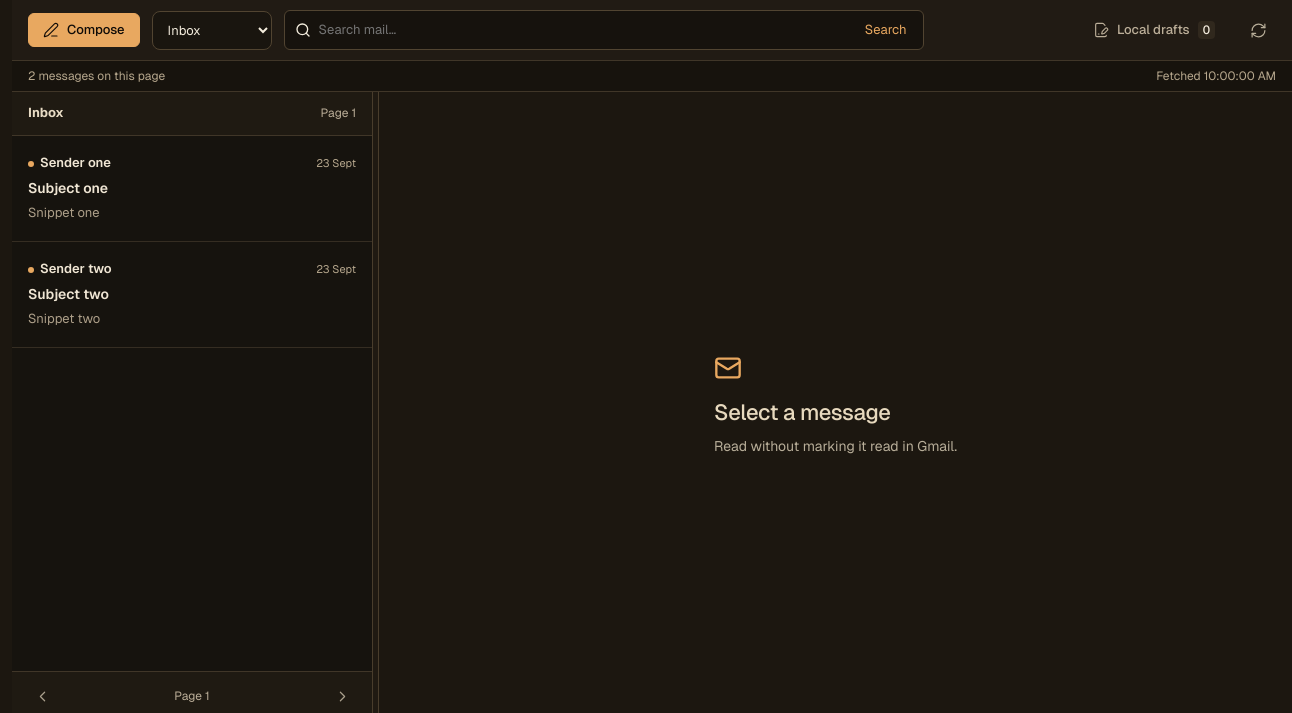
Test: reselecting the same loading message starts a fresh generation and resolves
Click the button "Sender one 23 Sept Subject one Snippet one" at (75, 163), box top-left (12, 136), bottom-right (372, 242)
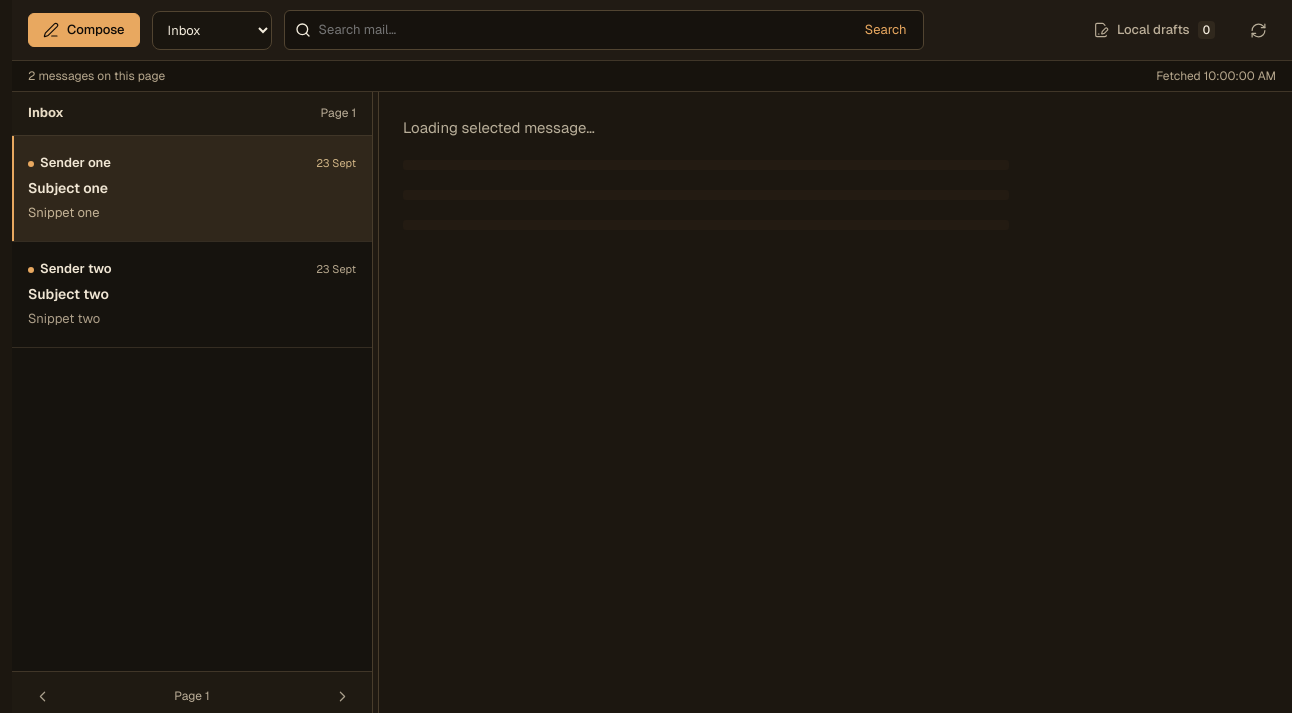
Press ArrowUp in the button "Sender one 23 Sept Subject one Snippet one", box top-left (12, 136), bottom-right (372, 242)
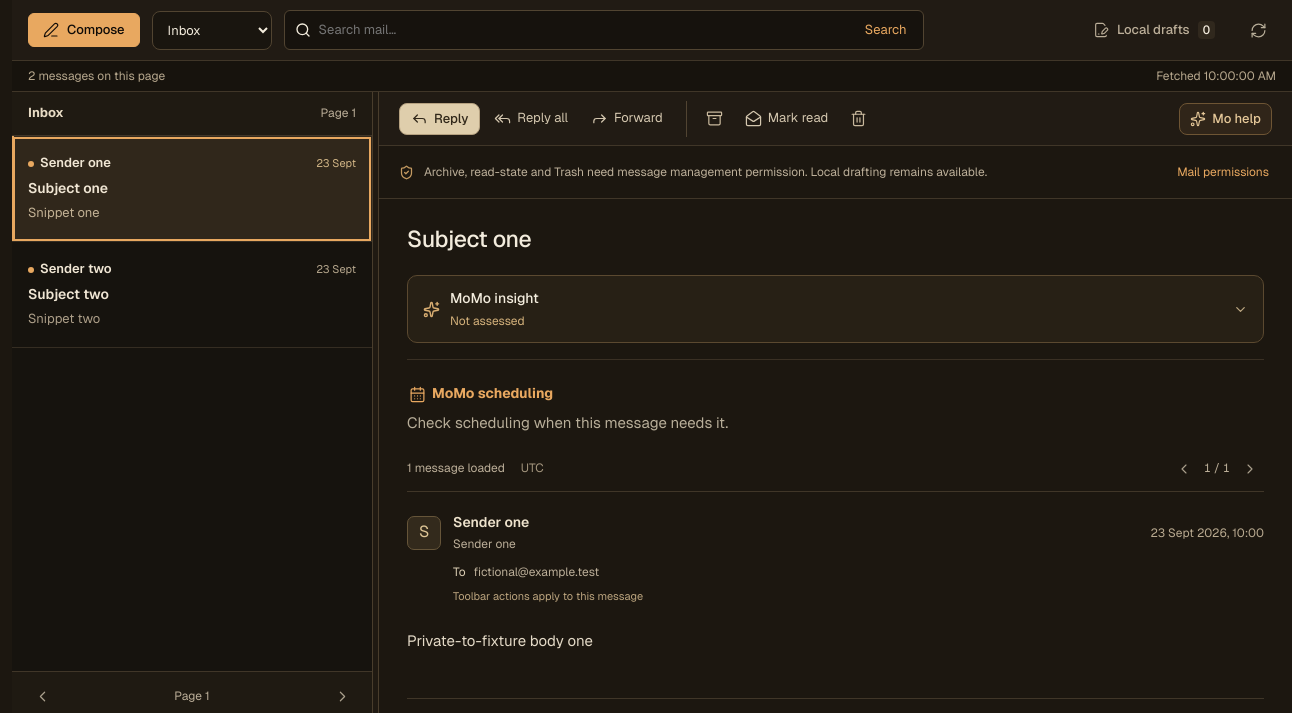
Expected: the text "Private-to-fixture body one" is shown, top-left (407, 631), bottom-right (593, 650)
Expected: the button "Reply" is shown, top-left (399, 102), bottom-right (480, 134)
